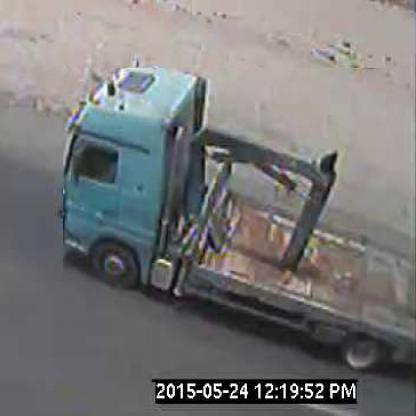container: (64, 69, 412, 384)
